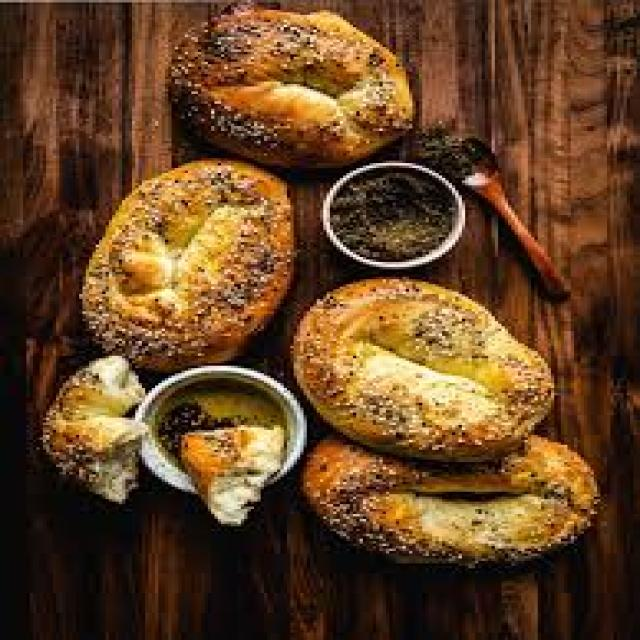Bagel: (292, 277, 551, 461), (82, 160, 292, 372), (302, 436, 599, 566), (177, 6, 411, 167)
